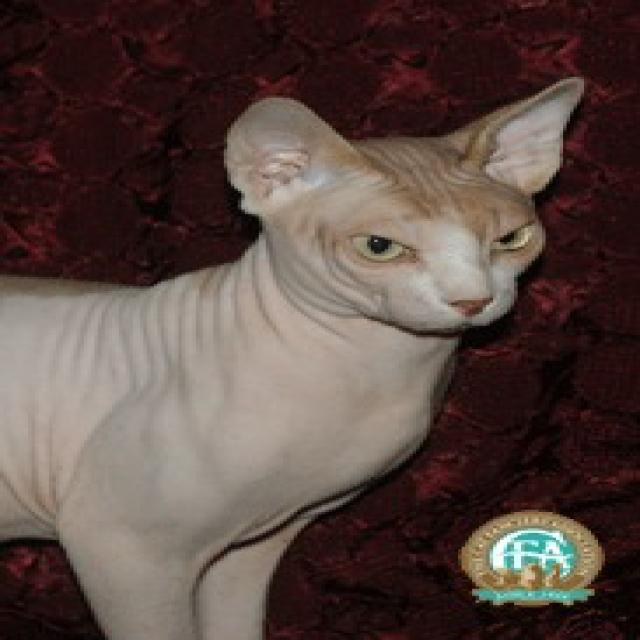cat: (217, 75, 580, 328)
